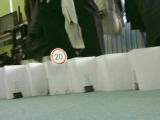speed_20: (49, 47, 66, 64)
